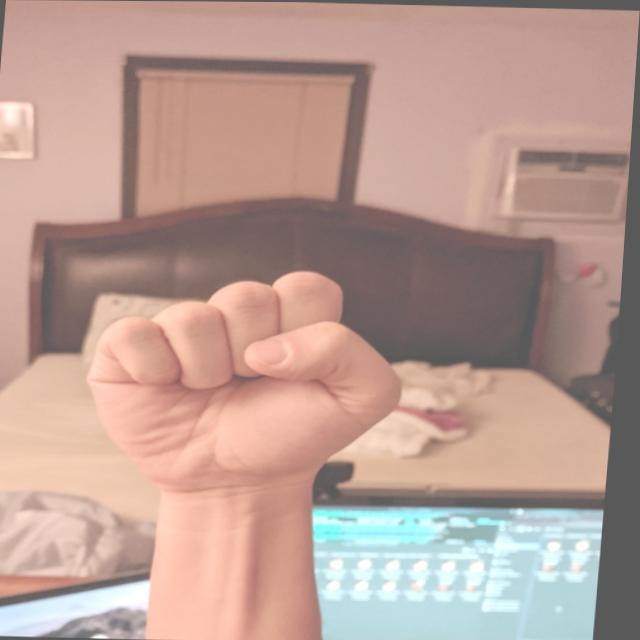S: (76, 261, 421, 494)
